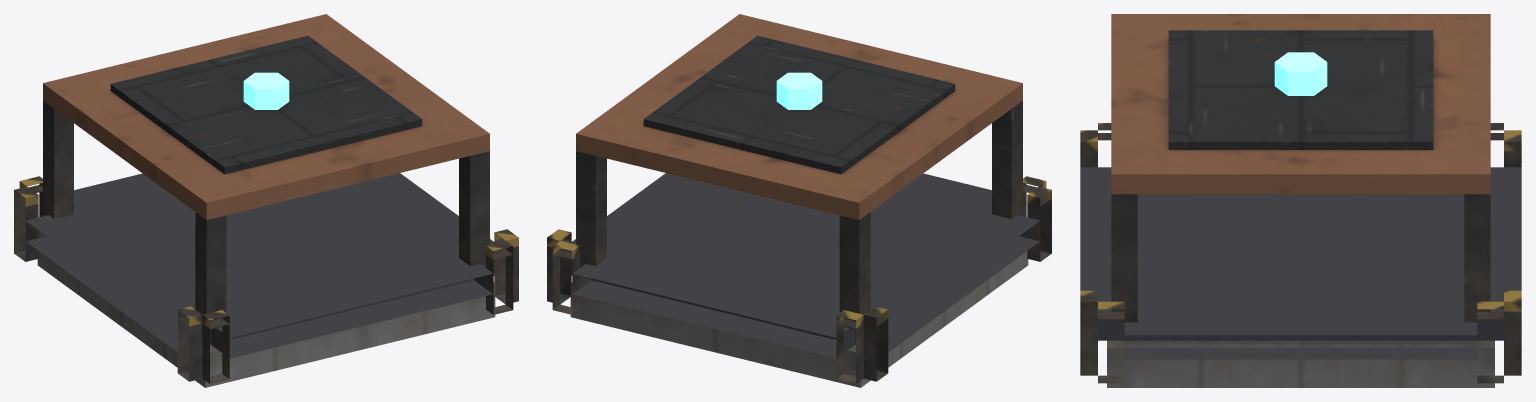
File: juncao.glb
3 views of the same model, side by side, from view 1: azimuth 30°, elevation 25°; view 2: azimuth 150°, elevation 25°; view 3: azimuth 270°, elevation 25° (orthographic). The views are drawn at different scales.
Visible parts, largest first — view 1: juncao; view 2: juncao; view 3: juncao.
Part boxes in pixels (x1,y1,x2,y2): juncao: (14, 14, 518, 387); juncao: (547, 14, 1051, 387); juncao: (1080, 14, 1521, 387).
Size of the model in its own units: 1 by 0.61 by 1.
Materials: 3 (1 with a texture image).
